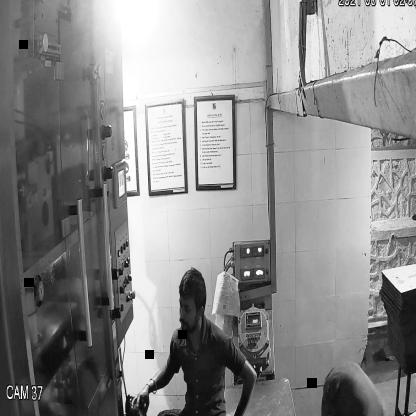no_goggles: (173, 296, 208, 318)
